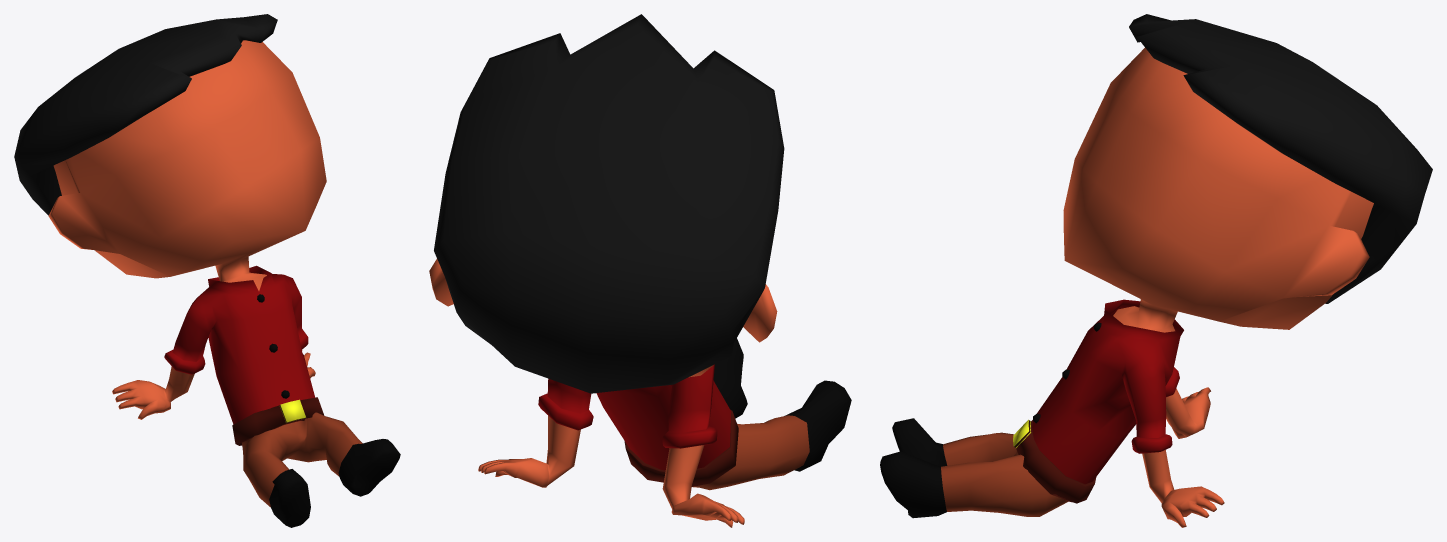
Rendered from Male NPC - redshirt,brown pants.FBX.
3 renders of one model, left to right at view 1: azimuth 30°, elevation 25°; view 2: azimuth 150°, elevation 25°; view 3: azimuth 270°, elevation 25°, orthographic. The views are drawn at different scales.
Visible parts, largest first — view 1: BrockLee008, Group004, Group005; view 2: Group005, Group004, BrockLee008; view 3: BrockLee008, Group005, Group004.
Part boxes in pixels (x1,y1,x2,y2): BrockLee008: (48, 40, 362, 507); Group004: (164, 265, 400, 527); Group005: (14, 14, 277, 215); Group005: (434, 14, 784, 393); Group004: (538, 338, 851, 471); BrockLee008: (429, 259, 809, 527); BrockLee008: (941, 48, 1373, 527); Group005: (1129, 14, 1432, 303); Group004: (880, 299, 1183, 518).
Bounding box in the file's own units: 97.44 × 153 × 149.
